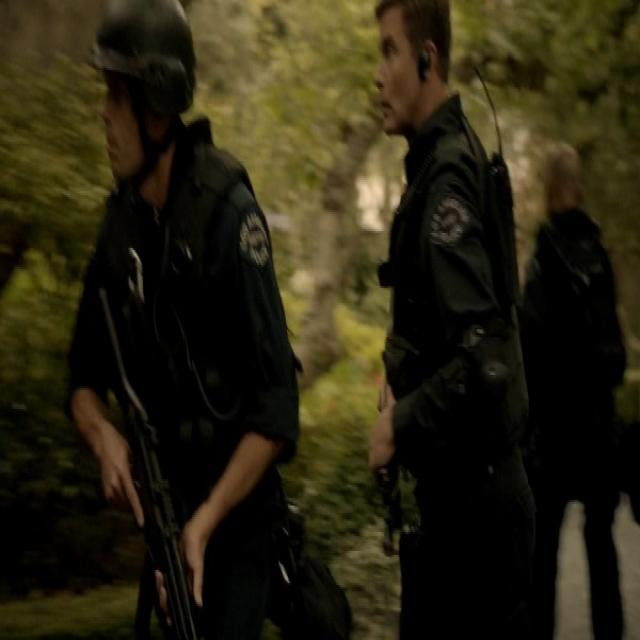rifle: (84, 281, 210, 640)
